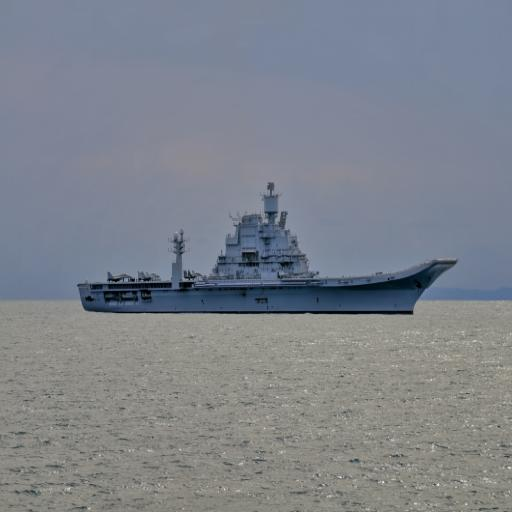Portanaves: (76, 182, 463, 320)
